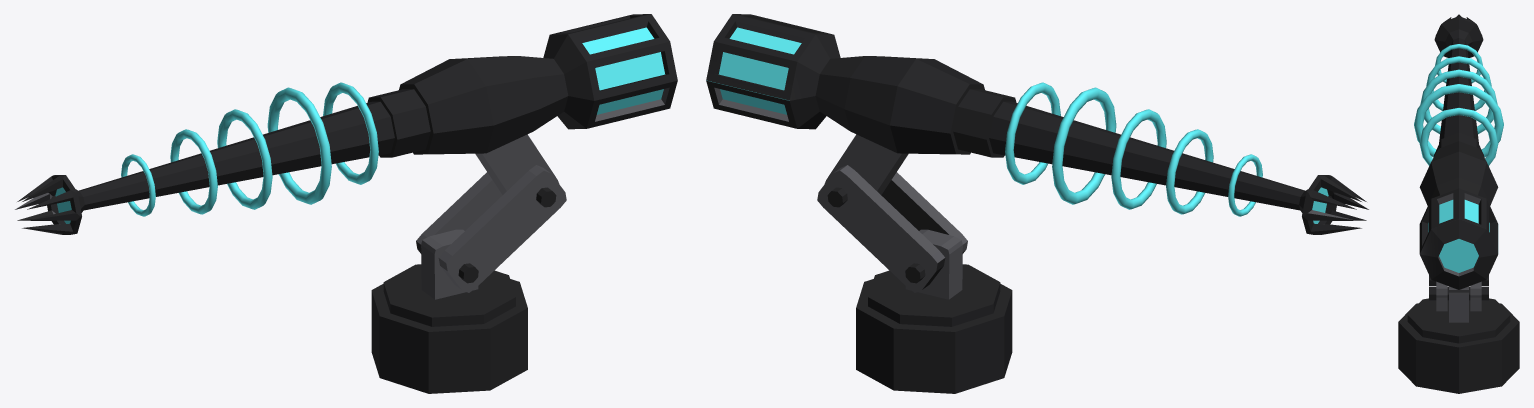
Rendered from laser gun.fbx.
The picture shows the model from 3 angles, left to right: view 1: azimuth 30°, elevation 25°; view 2: azimuth 150°, elevation 25°; view 3: azimuth 270°, elevation 25°; orthographic projection. The views are drawn at different scales.
Visible parts, largest first — view 1: Cube.002; view 2: Cube.002; view 3: Cube.002.
Boxes of the visible parts, bbox=[...] form: Cube.002: bbox=[15, 14, 677, 393]; Cube.002: bbox=[706, 14, 1368, 393]; Cube.002: bbox=[1398, 14, 1519, 393].
Bounding box in the file's own units: 1422 × 651 × 312.
